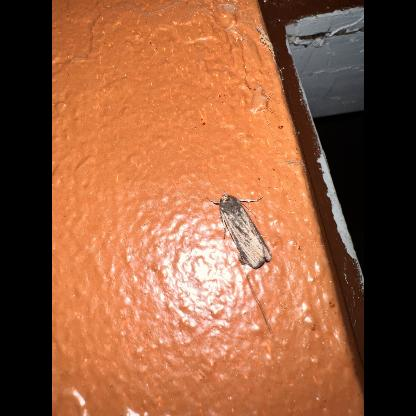Fall Armyworm Moth: (202, 190, 274, 271)
